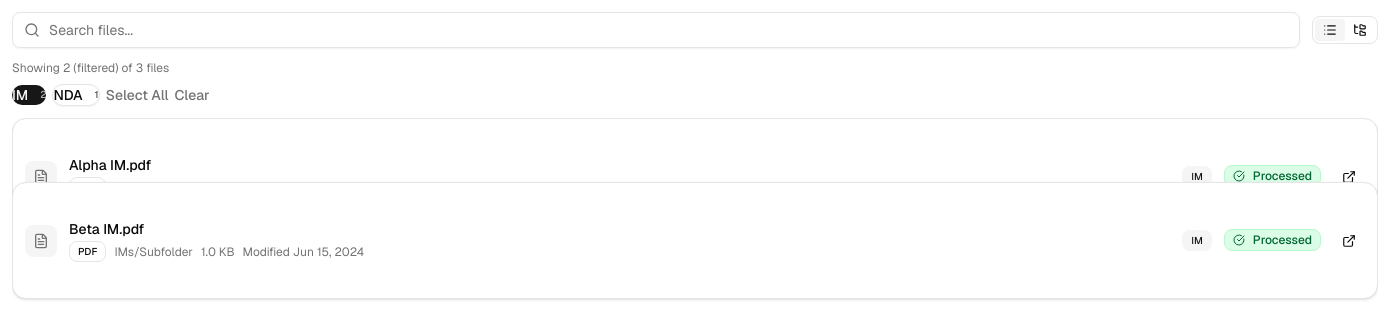
Test case: VirtualFilesList › search › works together with type filter pills
This screenshot has width=1390, height=317.
Expected: the text "Alpha IM.pdf" is shown, [69, 156, 151, 174]
Step 1. Type "Alpha" into the field with placeholder "Search files..." → [656, 30], box [12, 12, 1300, 48]
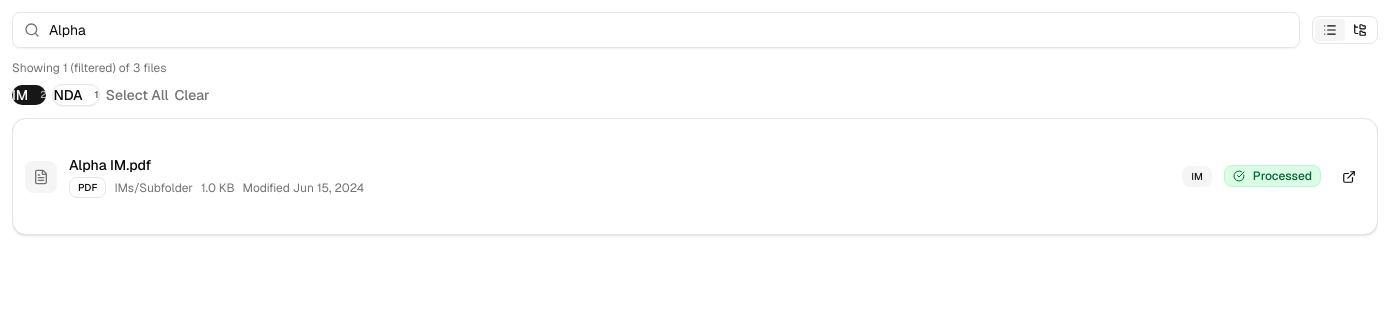
Expected: the text "Alpha IM.pdf" is shown, [69, 156, 151, 174]
Now the text "Beta IM.pdf" is gone
